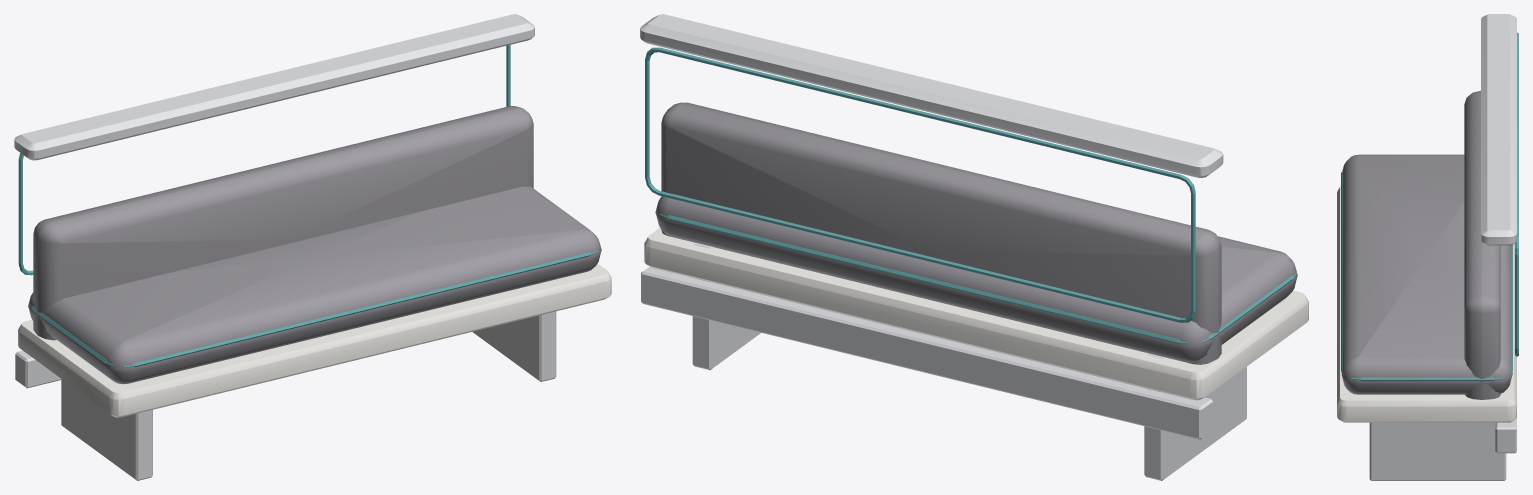
File: fast-food-and-drive-thru-wall-bench-with-cushion-312496d7__16187.glb
3 renders of one model, left to right at view 1: azimuth 30°, elevation 25°; view 2: azimuth 150°, elevation 25°; view 3: azimuth 270°, elevation 25°, orthographic. The views are drawn at different scales.
Visible parts, largest first — view 1: wall-bench-with-cushion; view 2: wall-bench-with-cushion; view 3: wall-bench-with-cushion.
Boxes of the visible parts, left/top/right/bottom form: wall-bench-with-cushion: left=14, top=14, right=611, bottom=480; wall-bench-with-cushion: left=640, top=14, right=1308, bottom=480; wall-bench-with-cushion: left=1337, top=14, right=1518, bottom=480.
Size of the model in its own units: 1.46 by 0.8221 by 0.5052.
